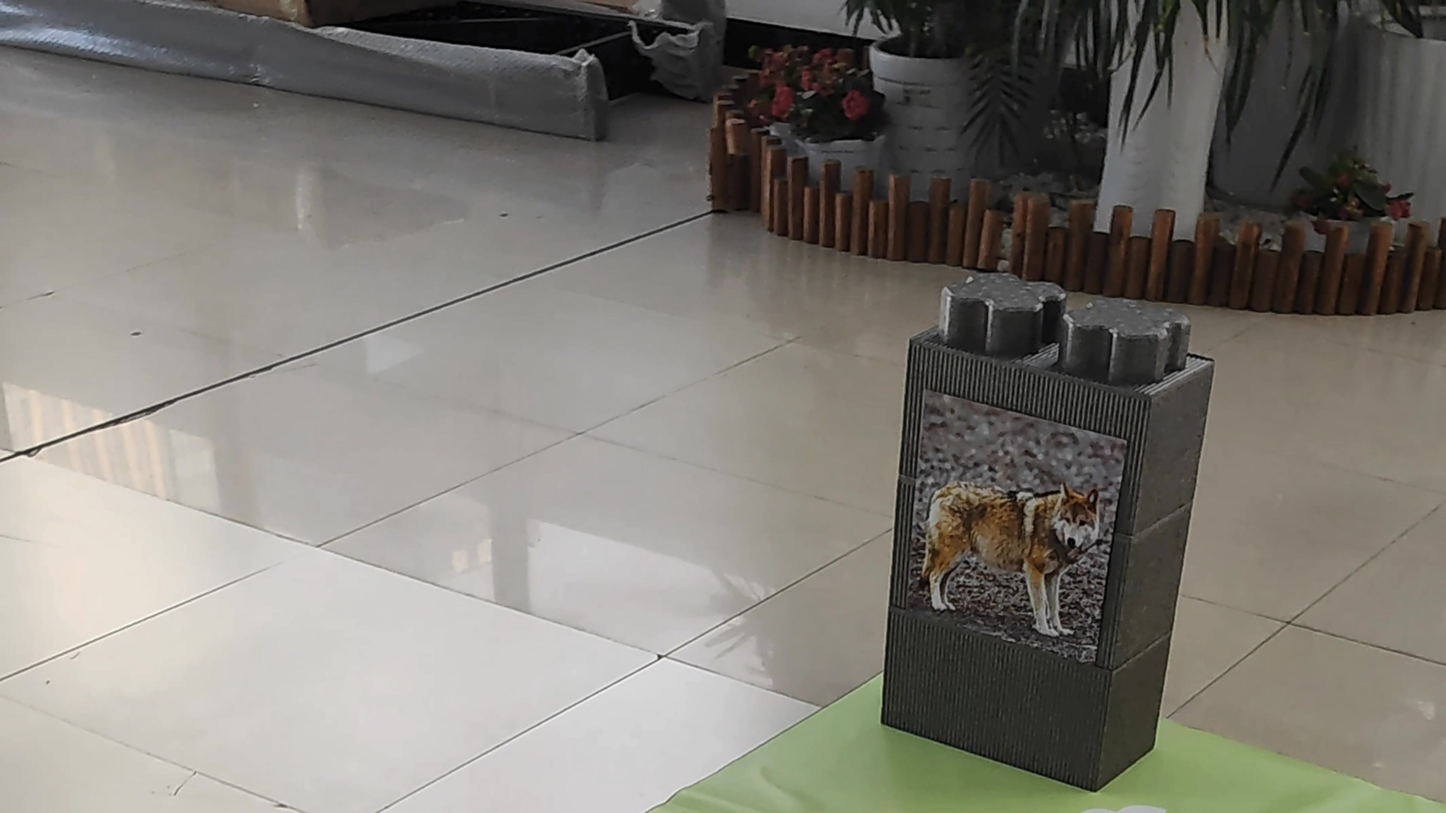wolf: (894, 423, 1103, 646)
